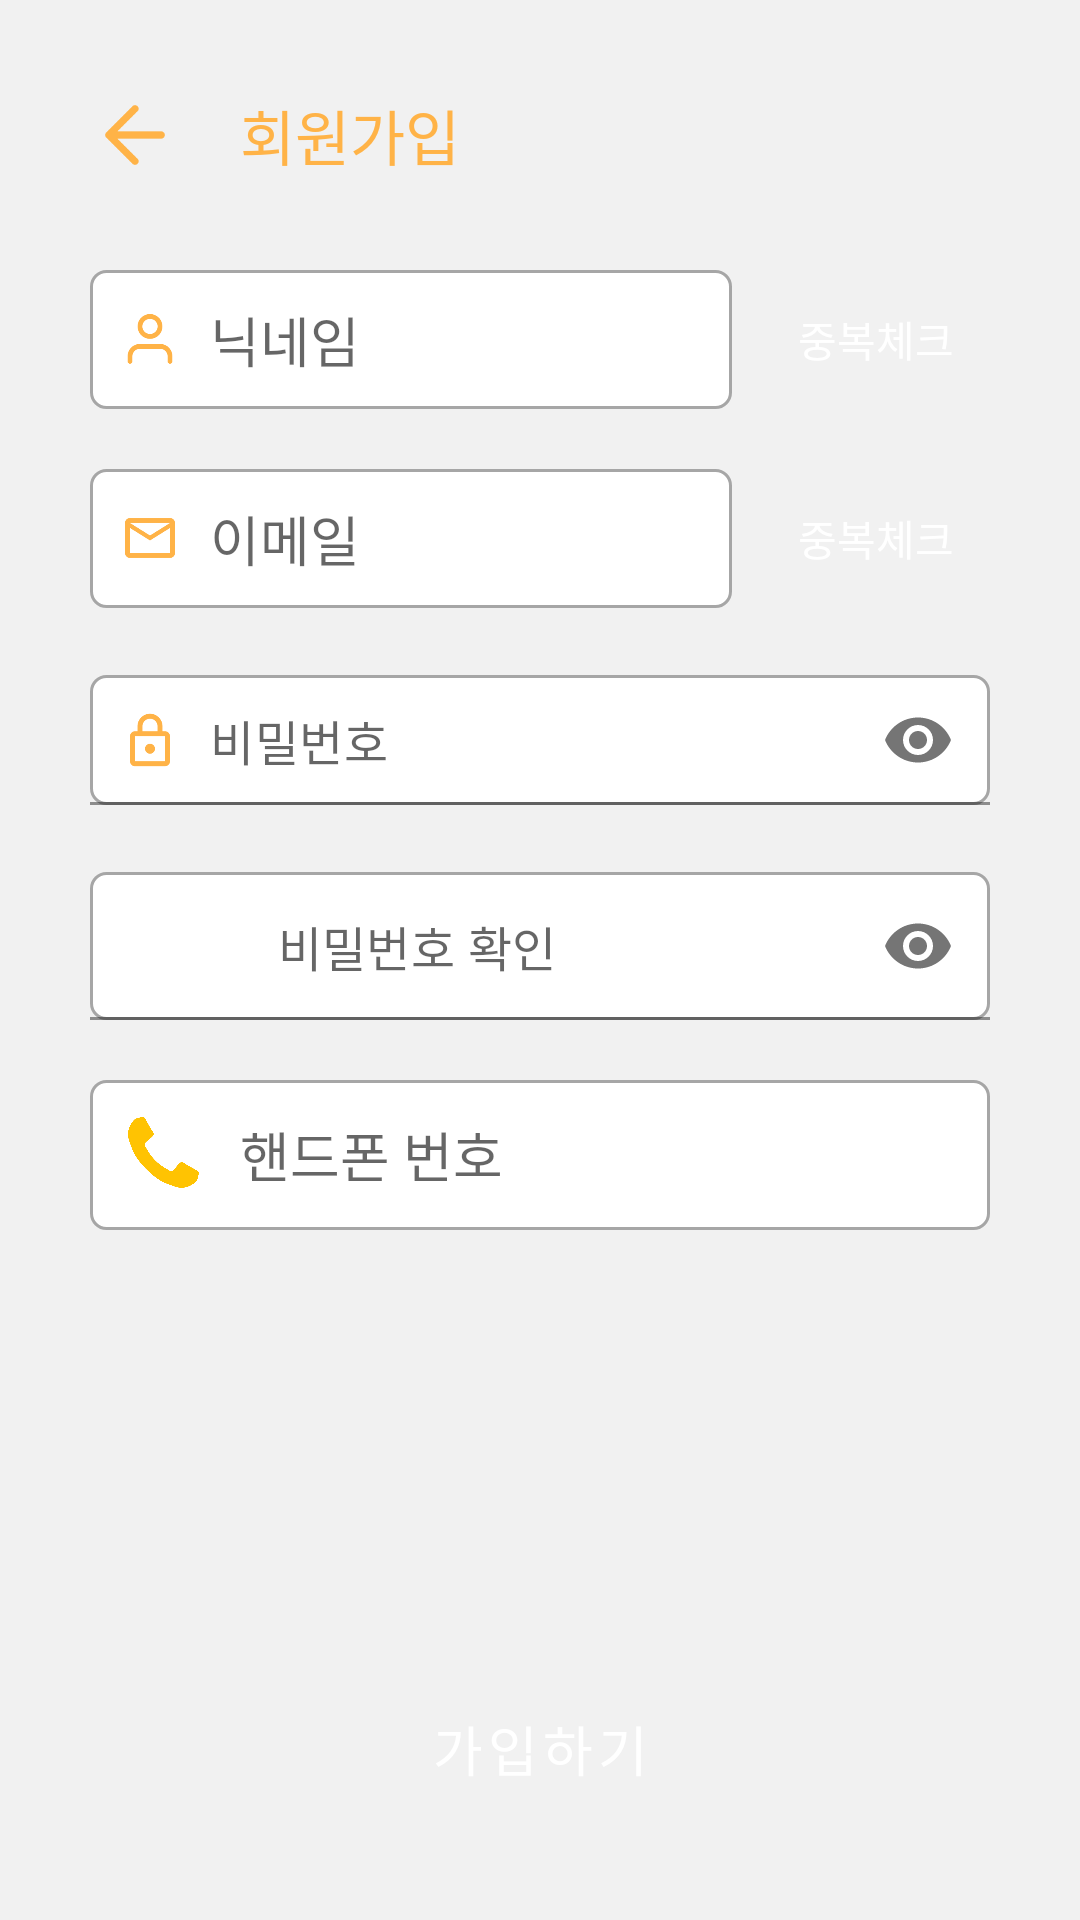

Where icons sit on this 1080×1920 app screen, as (x1,y1,x2,y2):
arrow: (105,105,165,165)
